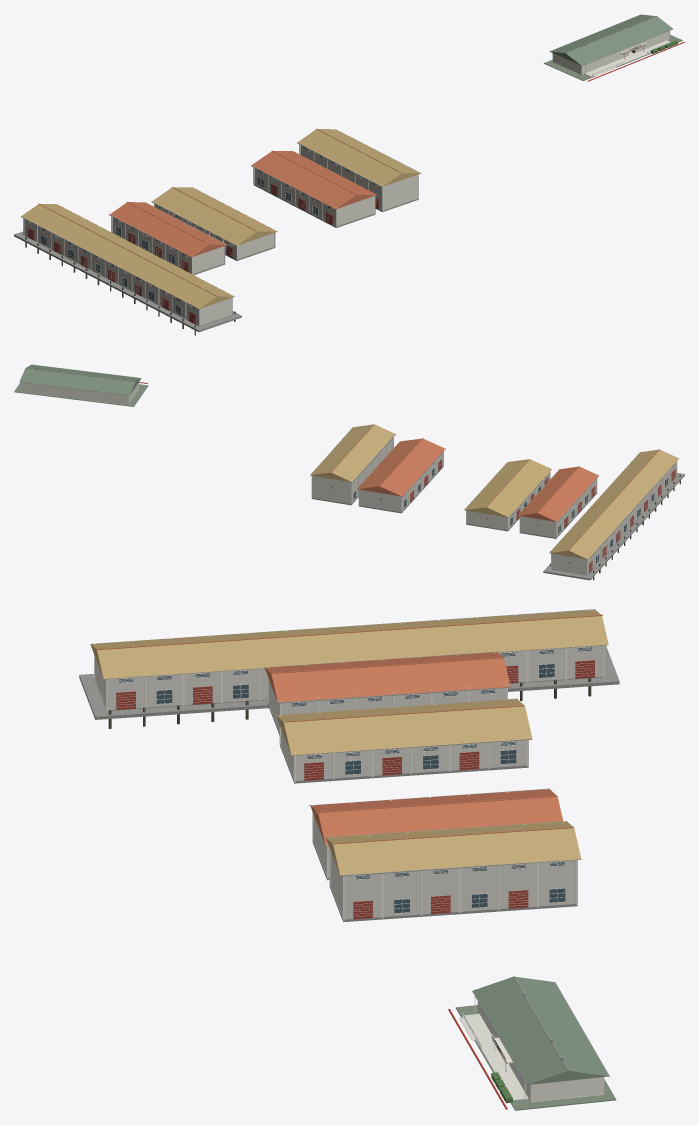
File: fort-mason.glb
The picture shows the model from 3 angles, top to bottom: view 1: azimuth 30°, elevation 25°; view 2: azimuth 150°, elevation 25°; view 3: azimuth 270°, elevation 25°; orthographic projection. The views are drawn at different scales.
Visible parts, largest first — view 1: fort_mason_sun_faded_ochre_roof, fort_mason_fort_mason_cream_stucco, fort_mason_faded_terracotta_roof, fort_mason_weathered_sage_shingle, fort_mason_fort_mason_pale_trim, fort_mason_pier_concrete, fort_mason_historic_iron_red_doors, fort_mason_aged_galvanized_metal, fort_mason_hostel_warm_white_clapboard, fort_mason_smoky_blue_window_glass, fort_mason_painted_porch_timber; view 2: fort_mason_sun_faded_ochre_roof, fort_mason_fort_mason_cream_stucco, fort_mason_faded_terracotta_roof, fort_mason_weathered_sage_shingle, fort_mason_pier_concrete, fort_mason_fort_mason_pale_trim, fort_mason_hostel_warm_white_clapboard, fort_mason_aged_galvanized_metal, fort_mason_historic_iron_red_doors, fort_mason_fort_mason_terrace_lawn, fort_mason_smoky_blue_window_glass; view 3: fort_mason_sun_faded_ochre_roof, fort_mason_fort_mason_cream_stucco, fort_mason_faded_terracotta_roof, fort_mason_weathered_sage_shingle, fort_mason_fort_mason_pale_trim, fort_mason_pier_concrete, fort_mason_historic_iron_red_doors, fort_mason_smoky_blue_window_glass, fort_mason_aged_galvanized_metal, fort_mason_hostel_warm_white_clapboard, fort_mason_painted_porch_timber, fort_mason_fort_mason_terrace_lawn.
Boxes of the visible parts, x1,y1,x2,y2 form: fort_mason_sun_faded_ochre_roof: (21,129,420,308); fort_mason_fort_mason_cream_stucco: (24,145,417,325); fort_mason_faded_terracotta_roof: (38,128,401,296); fort_mason_weathered_sage_shingle: (550,14,672,65); fort_mason_fort_mason_pale_trim: (23,54,630,326); fort_mason_pier_concrete: (14,184,418,332); fort_mason_historic_iron_red_doors: (27,183,378,324); fort_mason_aged_galvanized_metal: (20,14,672,308); fort_mason_hostel_warm_white_clapboard: (552,31,670,74); fort_mason_smoky_blue_window_glass: (28,50,633,314); fort_mason_painted_porch_timber: (585,40,670,76); fort_mason_sun_faded_ochre_roof: (310,424,679,559); fort_mason_fort_mason_cream_stucco: (312,438,676,574); fort_mason_faded_terracotta_roof: (331,424,659,550); fort_mason_weathered_sage_shingle: (19,364,141,395); fort_mason_pier_concrete: (312,466,684,580); fort_mason_fort_mason_pale_trim: (129,389,677,575); fort_mason_hostel_warm_white_clapboard: (22,382,139,403); fort_mason_aged_galvanized_metal: (20,364,676,559); fort_mason_historic_iron_red_doors: (331,459,675,572); fort_mason_fort_mason_terrace_lawn: (14,382,148,406); fort_mason_smoky_blue_window_glass: (353,440,674,563); fort_mason_sun_faded_ochre_roof: (90,609,608,875); fort_mason_fort_mason_cream_stucco: (95,645,602,919); fort_mason_faded_terracotta_roof: (96,614,602,846); fort_mason_weathered_sage_shingle: (473,976,609,1084); fort_mason_fort_mason_pale_trim: (94,610,604,1102); fort_mason_pier_concrete: (79,645,619,922); fort_mason_historic_iron_red_doors: (116,660,594,919); fort_mason_smoky_blue_window_glass: (119,647,591,913); fort_mason_aged_galvanized_metal: (101,609,609,1085); fort_mason_hostel_warm_white_clapboard: (477,1001,604,1102); fort_mason_painted_porch_timber: (459,1013,528,1100); fort_mason_fort_mason_terrace_lawn: (455,1005,616,1110).
Size of the model in its own units: 389 by 46.43 by 156.
